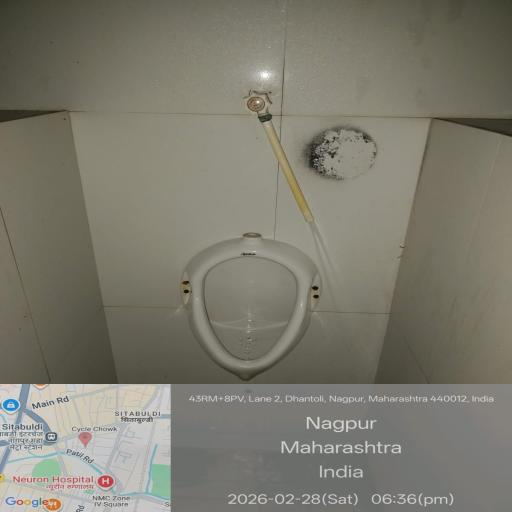clean_floor: (10, 2, 349, 231), (10, 262, 193, 388)
clean_urinal: (190, 242, 310, 368)
partial_dirty_floor: (375, 234, 512, 364), (367, 0, 505, 101)
